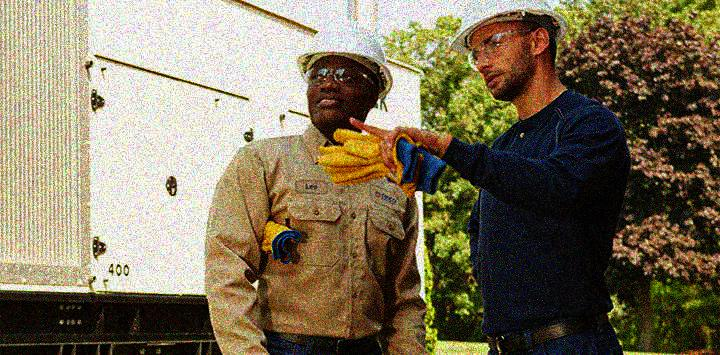helmet: (447, 1, 568, 95), (296, 20, 395, 134)
